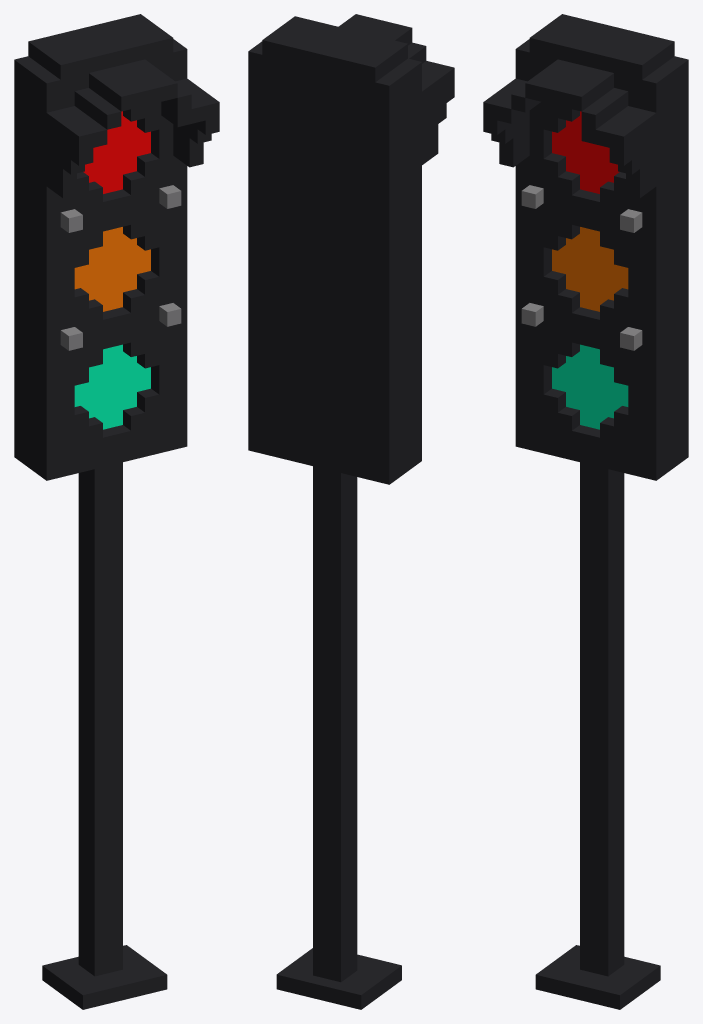
The model's file is TrafficLight_001.obj.
The picture shows the model from 3 angles, left to right: view 1: azimuth 30°, elevation 25°; view 2: azimuth 150°, elevation 25°; view 3: azimuth 330°, elevation 25°; orthographic projection.
Size of the model in its own units: 1 by 6.4 by 0.8.
Materials: 1 (1 with a texture image).
